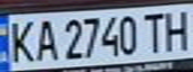0: (118, 11, 142, 56)
2: (60, 15, 84, 61)
4: (100, 12, 124, 57)
7: (78, 13, 103, 60)
A: (30, 16, 60, 63)
H: (160, 7, 193, 52)
K: (3, 16, 39, 64)
T: (139, 10, 169, 53)
